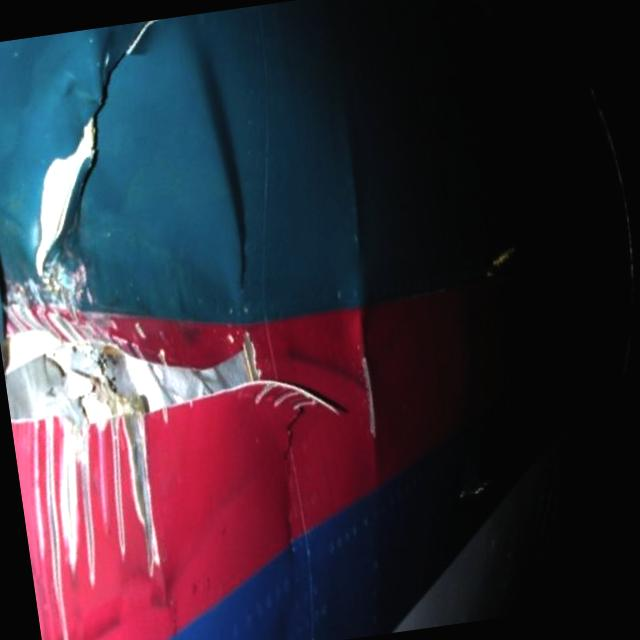crack: (12, 112, 116, 280)
